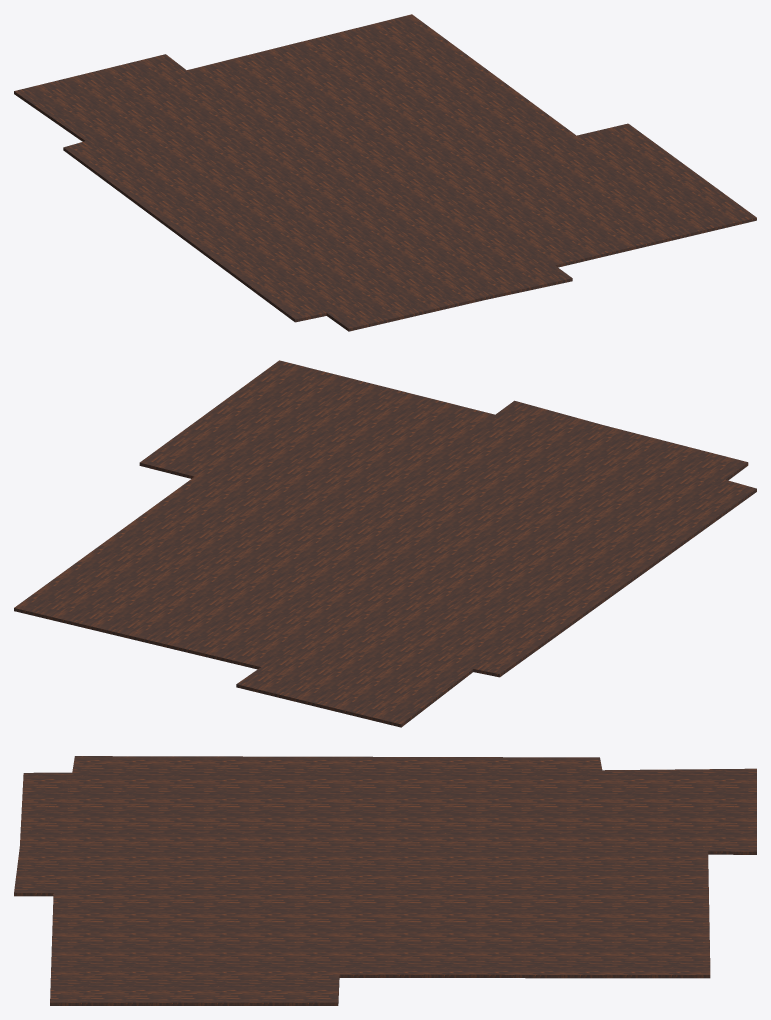
The model's file is scheme_001_floor_001.gltf.
3 views of the same model, one above another, from view 1: azimuth 30°, elevation 25°; view 2: azimuth 150°, elevation 25°; view 3: azimuth 270°, elevation 25° (orthographic). The views are drawn at different scales.
Visible parts, largest first — view 1: Object002; view 2: Object002; view 3: Object002.
Part boxes in pixels (x1,y1,x2,y2): Object002: (14,14,756,331); Object002: (14,360,756,727); Object002: (14,756,756,1005).
Bounding box in the file's own units: 12.86 × 0.0804 × 16.38.
Materials: 1 (1 with a texture image).
